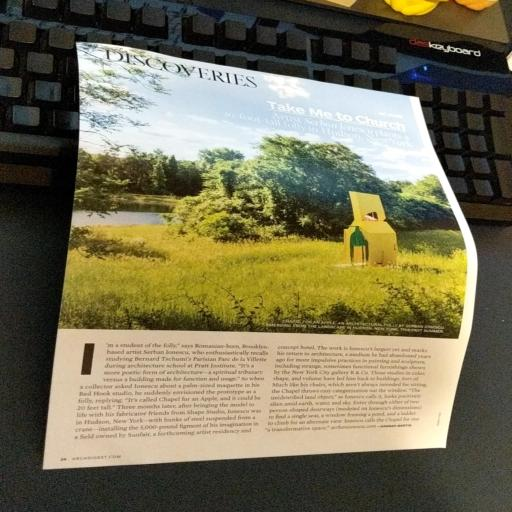paper: (17, 14, 497, 503)
